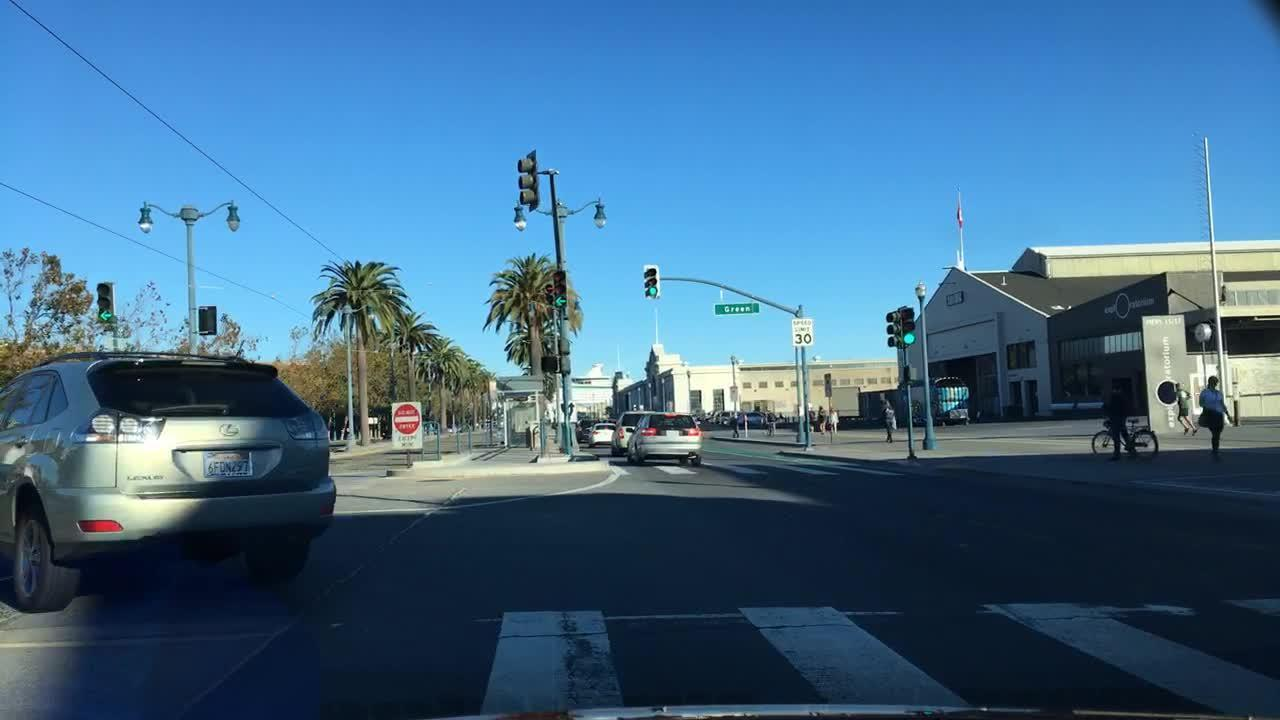lexus: (219, 421, 243, 440)
